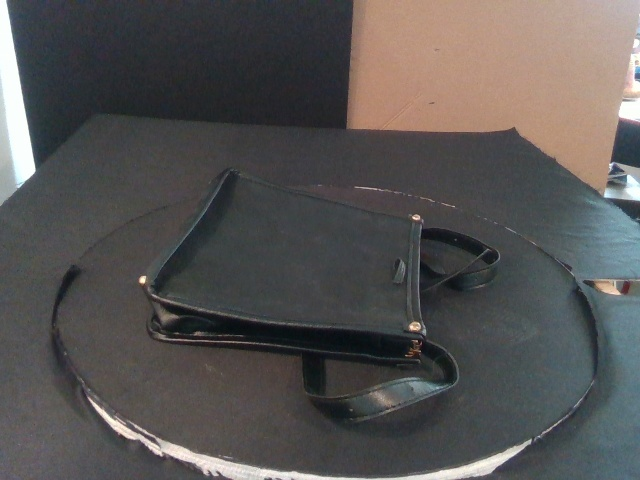bag: (137, 167, 425, 367)
